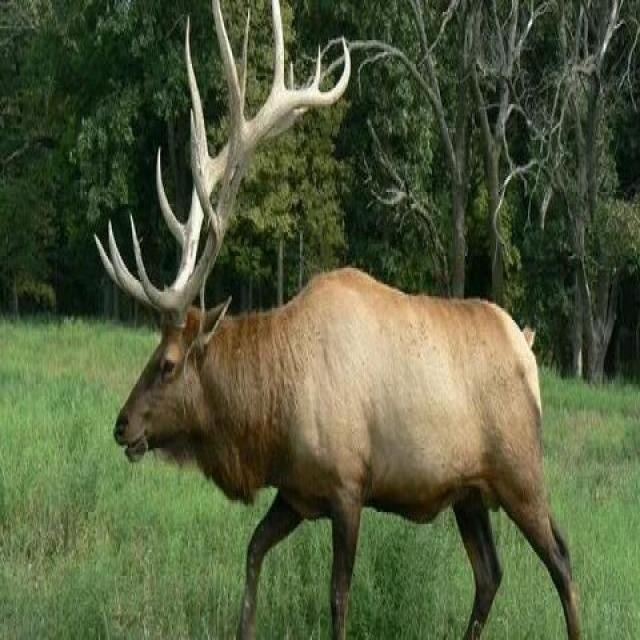deer: (115, 56, 622, 640)
